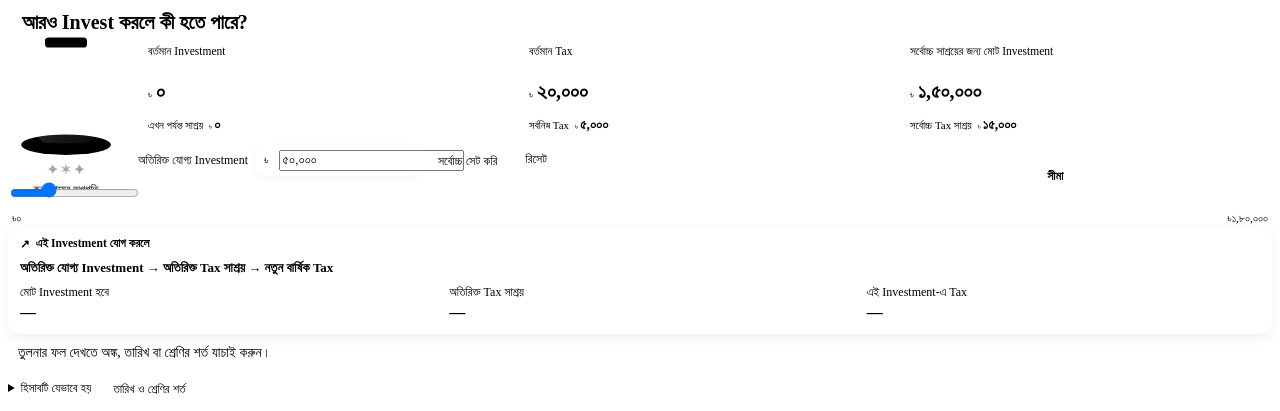
approved savings-first simulator › preserves amount replacement, pasted grouping and decimals in bn
Replace the text in the field labelled "অতিরিক্ত যোগ্য Investment" with "১,৫০,০০০.২৫" at (371, 160), box [279,150,464,171]
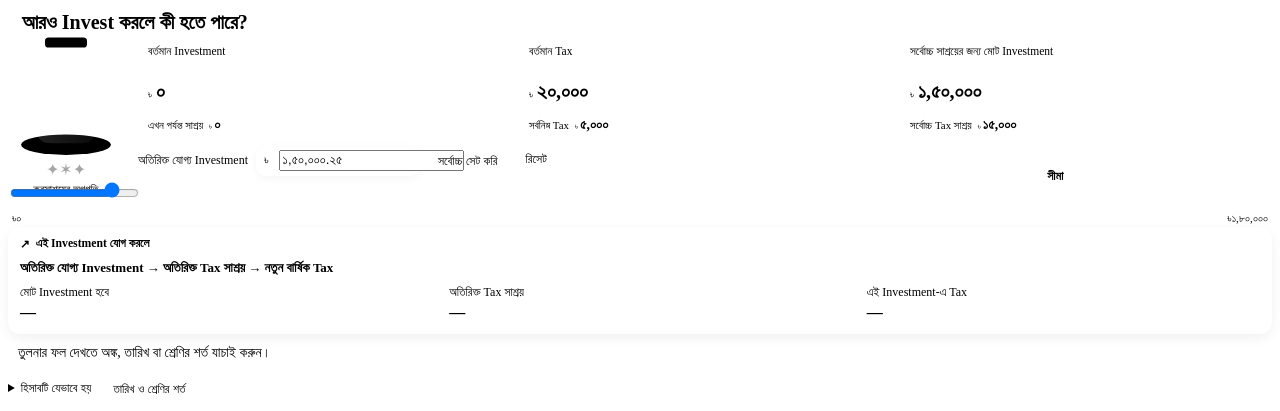
Leave the field labelled "অতিরিক্ত যোগ্য Investment", box [279,150,464,171]
Click the button with aria-label "সর্বোচ্চ সেট করি: ৳১,৫০,০০০" at (468, 161), box [428,146,507,176]
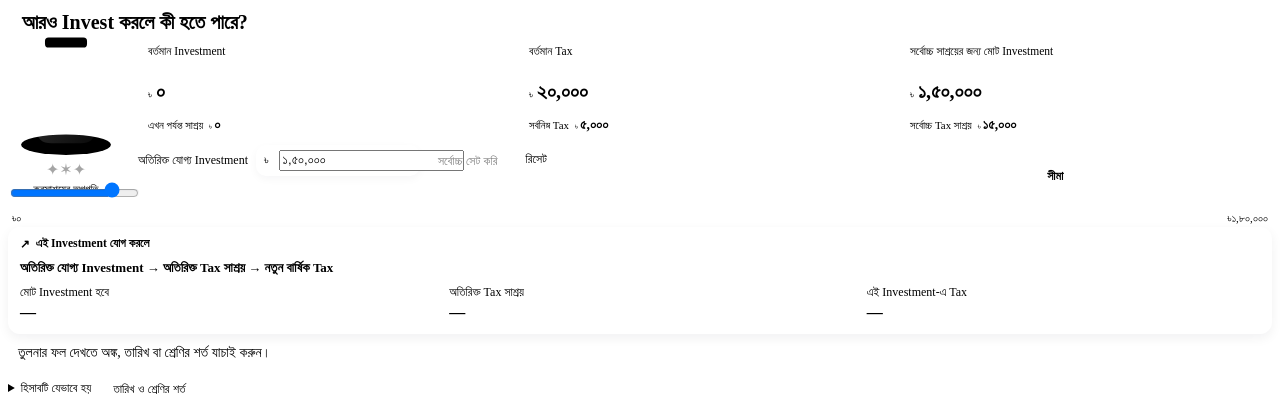
Now the field labelled "অতিরিক্ত যোগ্য Investment" holds "১,৫০,০০০", box [279,150,464,171]
